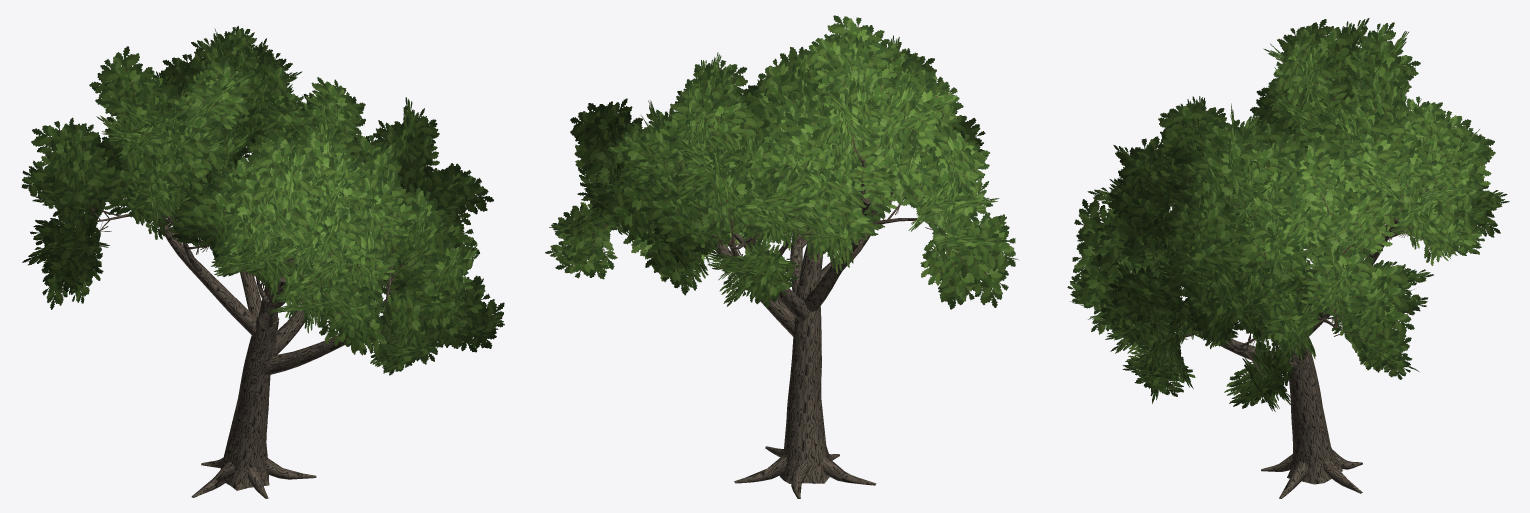
File: oak.glb
3 renders of one model, left to right at view 1: azimuth 30°, elevation 25°; view 2: azimuth 150°, elevation 25°; view 3: azimuth 270°, elevation 25°, orthographic. The views are drawn at different scales.
Visible parts, largest first — view 1: Leaves, Leaves_far, Trunk, Trunk_far; view 2: Leaves, Leaves_far, Trunk, Trunk_far; view 3: Leaves, Leaves_far, Trunk, Trunk_far.
Part boxes in pixels (box(x1,y1,x2,y2)): Leaves: box(21, 26, 504, 375); Leaves_far: box(44, 38, 480, 348); Trunk: box(89, 204, 401, 498); Trunk_far: box(101, 211, 393, 497); Leaves: box(545, 15, 1019, 309); Leaves_far: box(558, 48, 1009, 290); Trunk: box(693, 134, 942, 498); Trunk_far: box(686, 160, 876, 498); Leaves: box(1067, 18, 1507, 411); Leaves_far: box(1107, 26, 1509, 408); Trunk: box(1152, 99, 1421, 498); Trunk_far: box(1200, 83, 1398, 498).
Size of the model in its own units: 12.79 by 11.91 by 11.48.
Materials: 2 (2 with a texture image).
